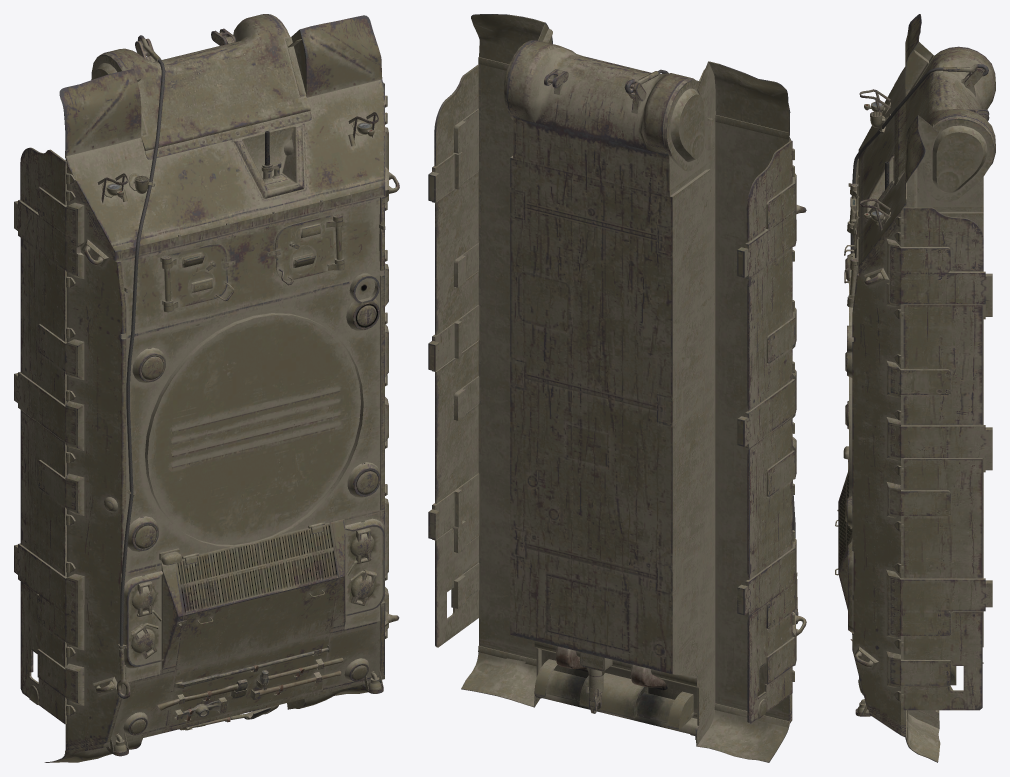
Rendered from Hull.glb.
The picture shows the model from 3 angles, left to right: view 1: azimuth 30°, elevation 25°; view 2: azimuth 150°, elevation 25°; view 3: azimuth 270°, elevation 25°; orthographic projection. The views are drawn at different scales.
Visible parts, largest first — view 1: set_0_group_0; view 2: set_0_group_0; view 3: set_0_group_0.
Part boxes in pixels (x1,y1,x2,y2): set_0_group_0: [14, 14, 399, 762]; set_0_group_0: [428, 14, 806, 762]; set_0_group_0: [835, 14, 995, 762].
Size of the model in its own units: 3.11 by 6.36 by 1.5.
1 material, 1 textured.
